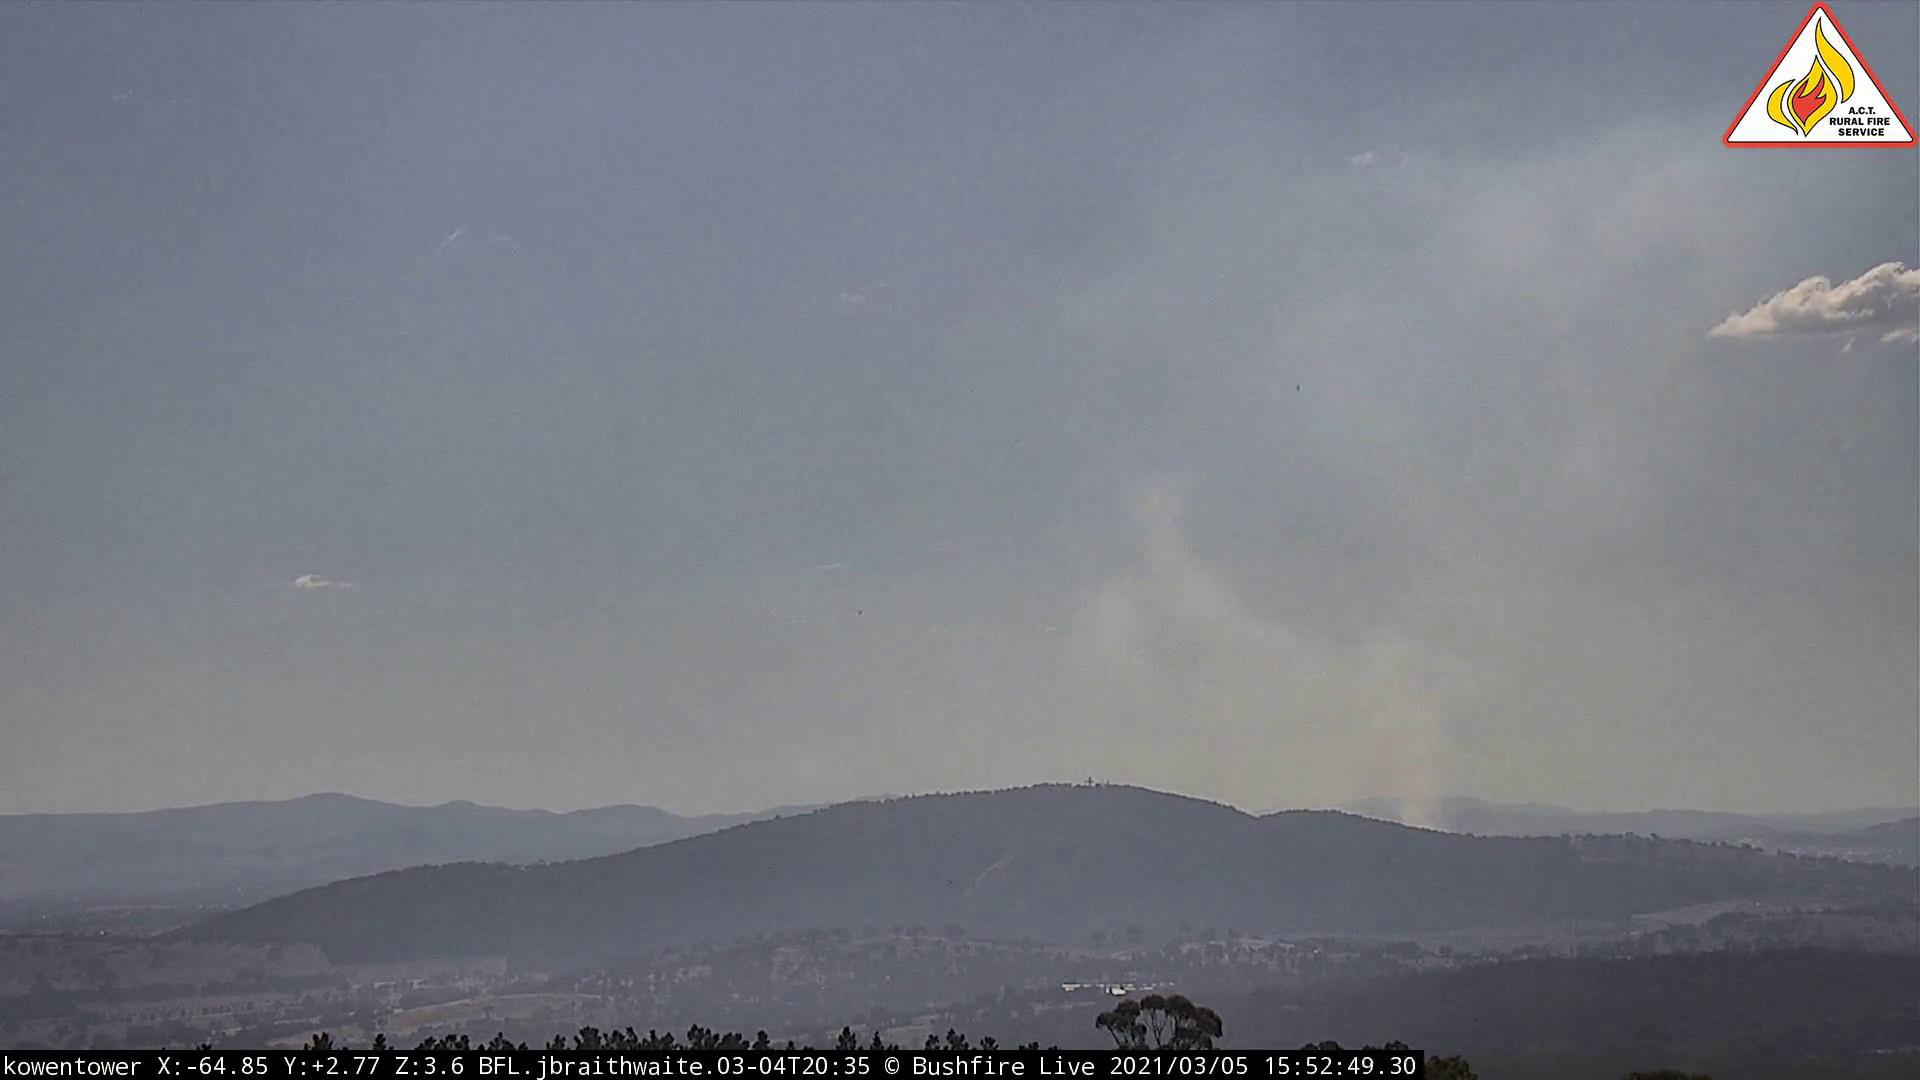Smoke: (969, 160, 1832, 837)
